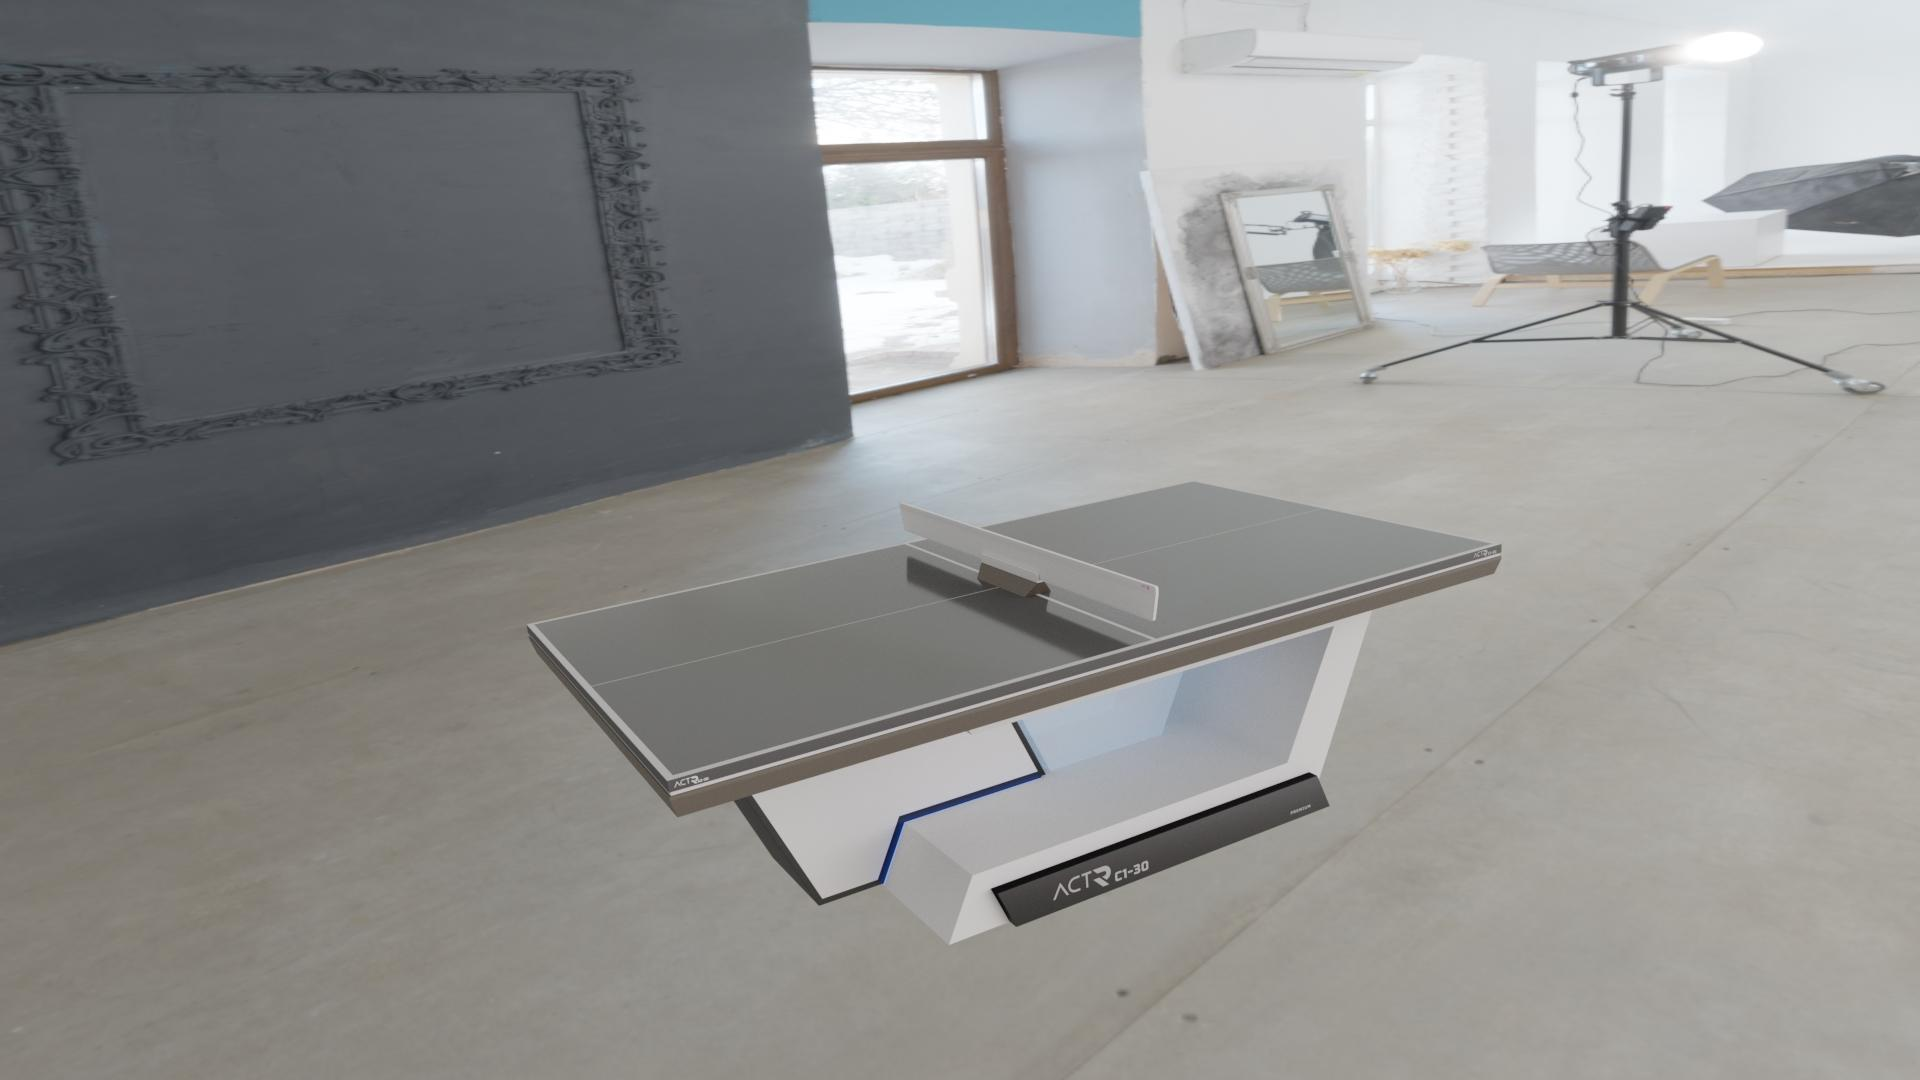table: (534, 481, 1493, 775)
